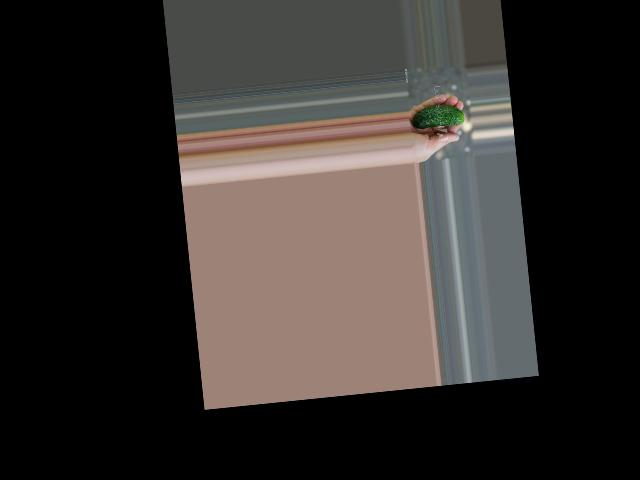cucumber: (410, 102, 464, 129)
